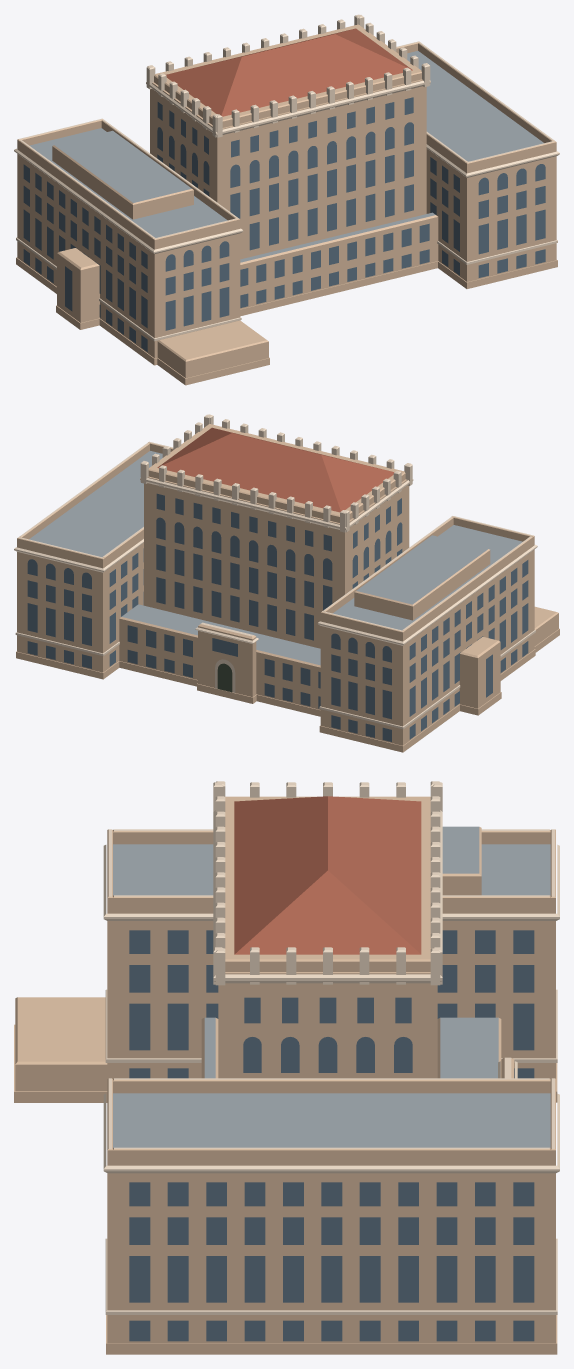
File: phx-historic-city-hall.glb
3 views of the same model, one above another, from view 1: azimuth 30°, elevation 25°; view 2: azimuth 150°, elevation 25°; view 3: azimuth 270°, elevation 25° (orthographic). The views are drawn at different scales.
Visible parts, largest first — view 1: Historic City Hall and County Courthouse; view 2: Historic City Hall and County Courthouse; view 3: Historic City Hall and County Courthouse.
Part boxes in pixels (x1=…): Historic City Hall and County Courthouse: x1=14, y1=14, x2=559, y2=385; Historic City Hall and County Courthouse: x1=14, y1=414, x2=559, y2=752; Historic City Hall and County Courthouse: x1=14, y1=781, x2=559, y2=1354.
Size of the model in its own units: 72.87 by 36.3 by 49.77.
